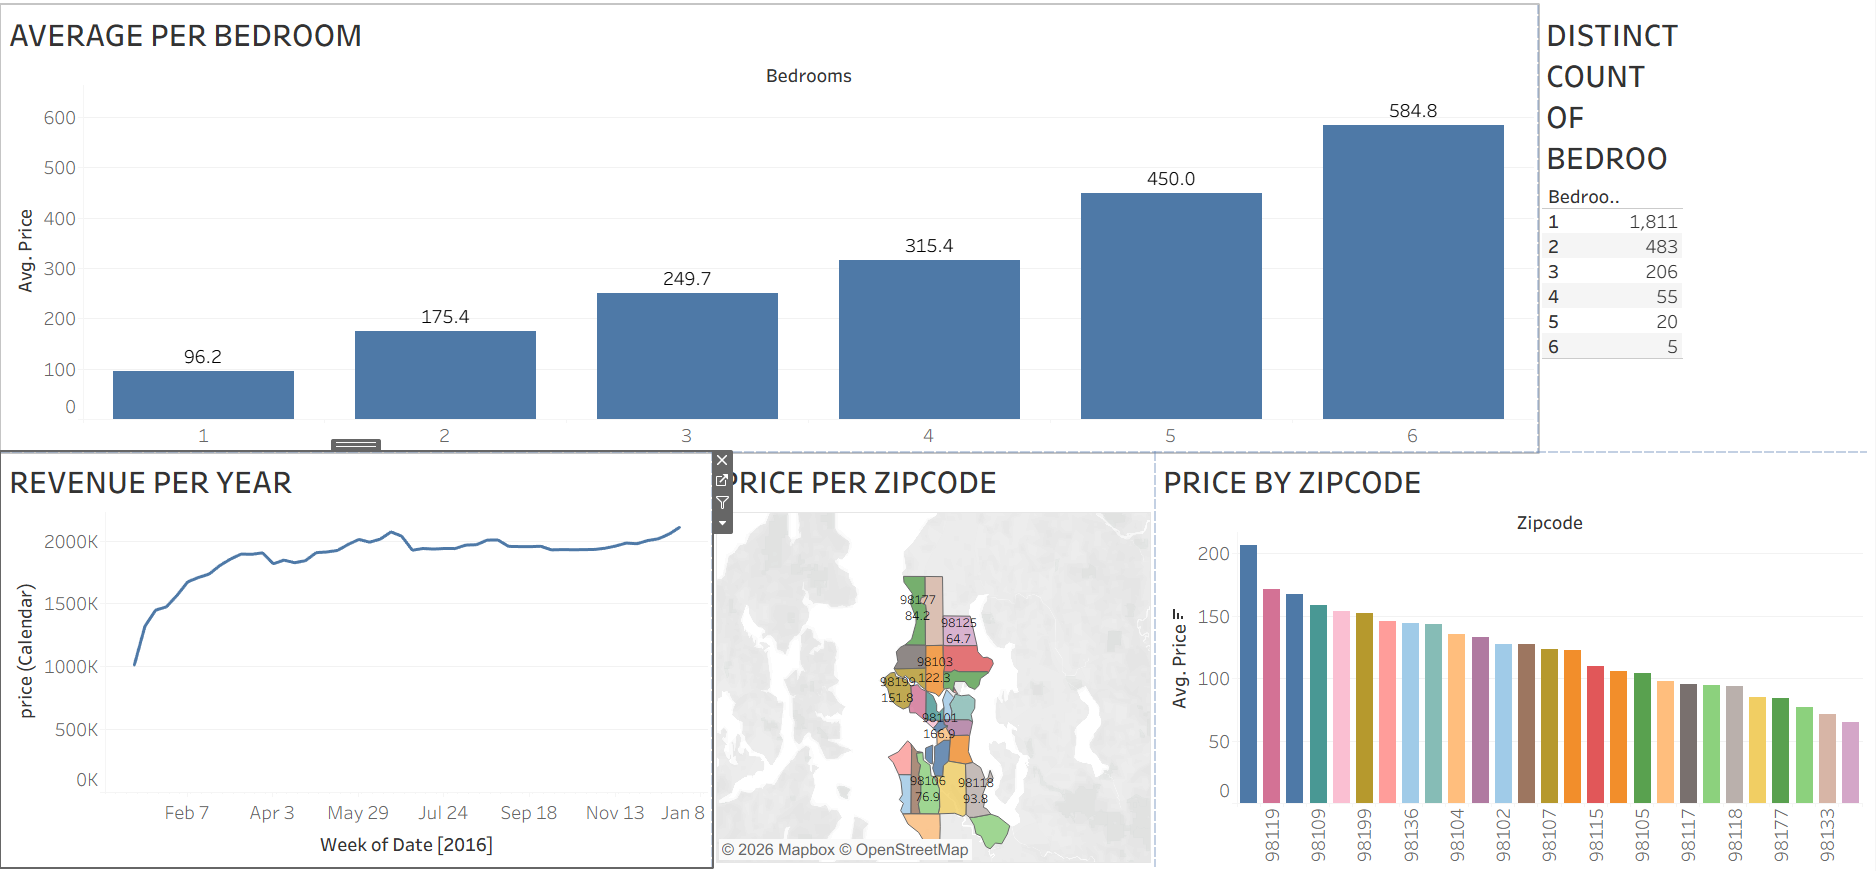

What the dashboard file says about the page in this screenshot:
{"tool":"tableau","page":{"name":"Dashboard 1","canvas":[1000,1000],"units":"permille","ordinal":0},"visuals":[{"type":"worksheet","title":"Sheet 4","mark":"Automatic","rows":["price"],"cols":["bedrooms"],"box":[5,9.1,815.5,509.1]},{"type":"worksheet","title":"Sheet 5","mark":"Automatic","rows":["bedrooms"],"box":[820.5,9.1,174.6,509.1]},{"type":"worksheet","title":"Sheet 3","mark":"Automatic","rows":["price (Calendar)"],"cols":["date"],"box":[5,518.2,377.5,472.7]},{"type":"worksheet","title":"Sheet 2","mark":"Multipolygon","box":[382.5,518.2,235,472.7]},{"type":"worksheet","title":"Sheet 1","mark":"Automatic","rows":["price"],"cols":["zipcode"],"box":[617.5,518.2,377.5,472.7]}]}

Visuals, with their boxes on the dashboard's canvas, which has no fixed pixel size, in thousandths of its width and height (x1, y1, x2, y2). These are canvas units, not pixel positions in the 1876x871 screenshot, which may show the page scaled, cropped or inside an application window:
"Sheet 4" worksheet: left=5, top=9, right=820, bottom=518
"Sheet 5" worksheet: left=820, top=9, right=995, bottom=518
"Sheet 3" worksheet: left=5, top=518, right=382, bottom=991
"Sheet 2" worksheet (Multipolygon marks): left=382, top=518, right=618, bottom=991
"Sheet 1" worksheet: left=618, top=518, right=995, bottom=991
